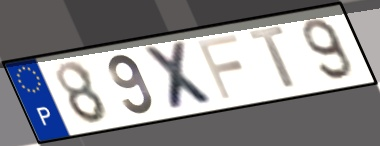8: (55, 59, 111, 126)
9: (299, 17, 356, 82), (107, 52, 155, 115)
F: (193, 31, 244, 101)
T: (246, 23, 299, 91)
X: (139, 38, 222, 112)
